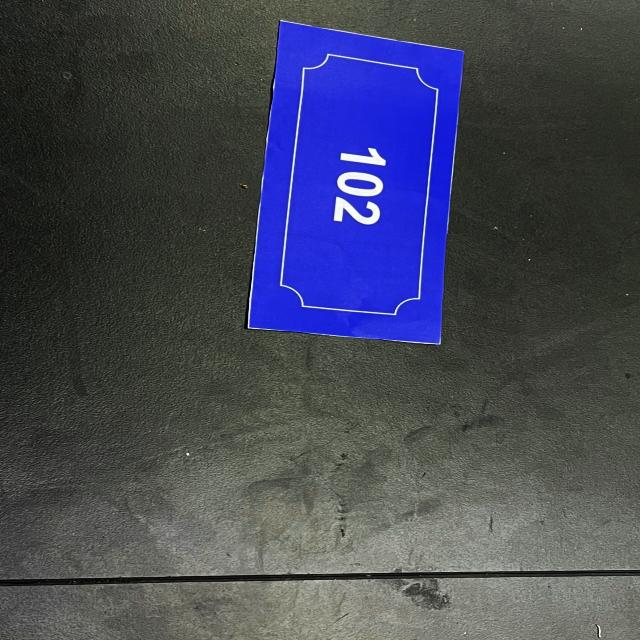Card: (235, 0, 488, 371)
